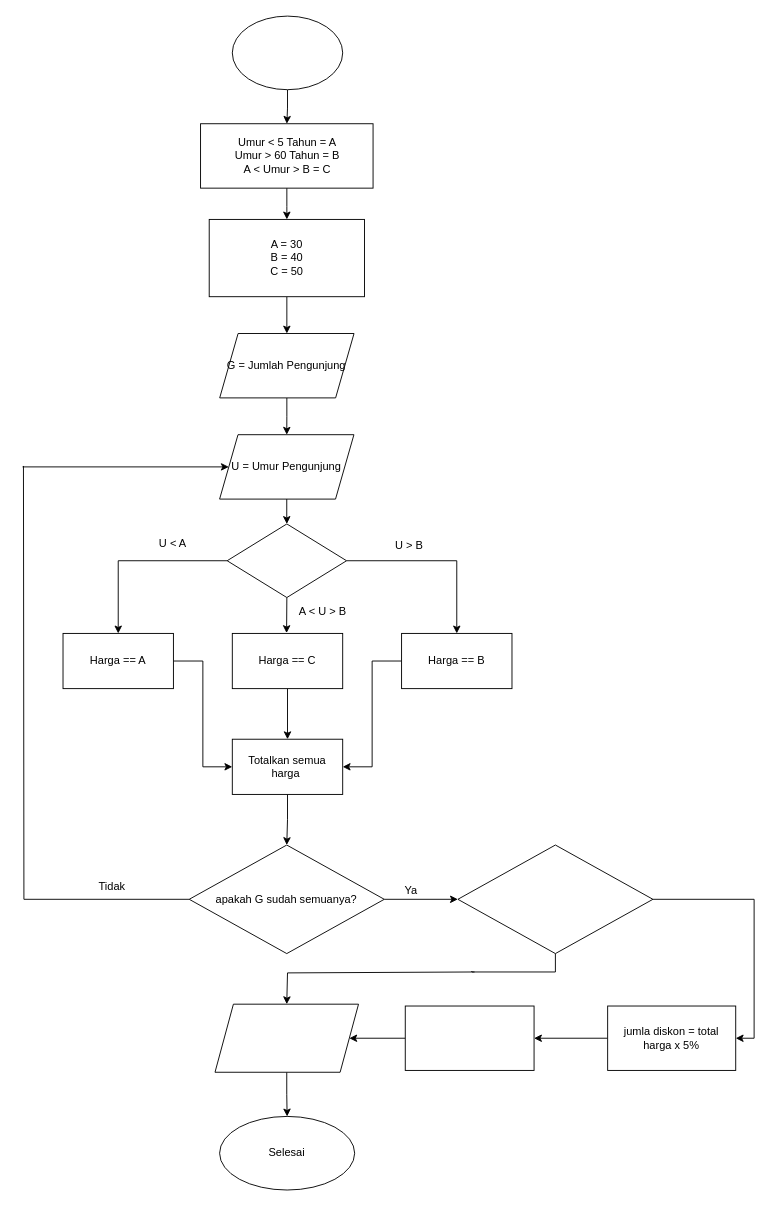
This 778x1206 diagram has some shape labels left out. Each missing label, with the centre of its shape:
Apakah jumlah G > 5?: point 555,899
Masuk ke kategori mana umur pengunjung?: point 286,560
Mulai: point 287,52
Output total harga: point 286,1037
total harga = total harga - jumlah diskon: point 469,1037
